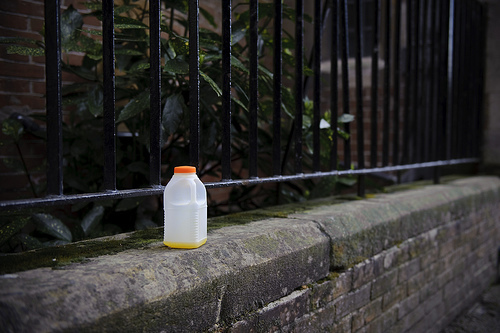litter: (162, 166, 208, 251)
